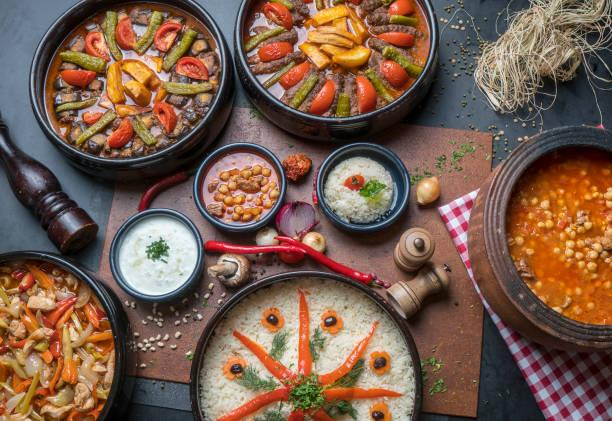Braised Crucian Carp: (31, 1, 233, 182), (470, 117, 612, 363), (190, 268, 421, 419), (231, 1, 435, 145), (0, 248, 136, 421)
